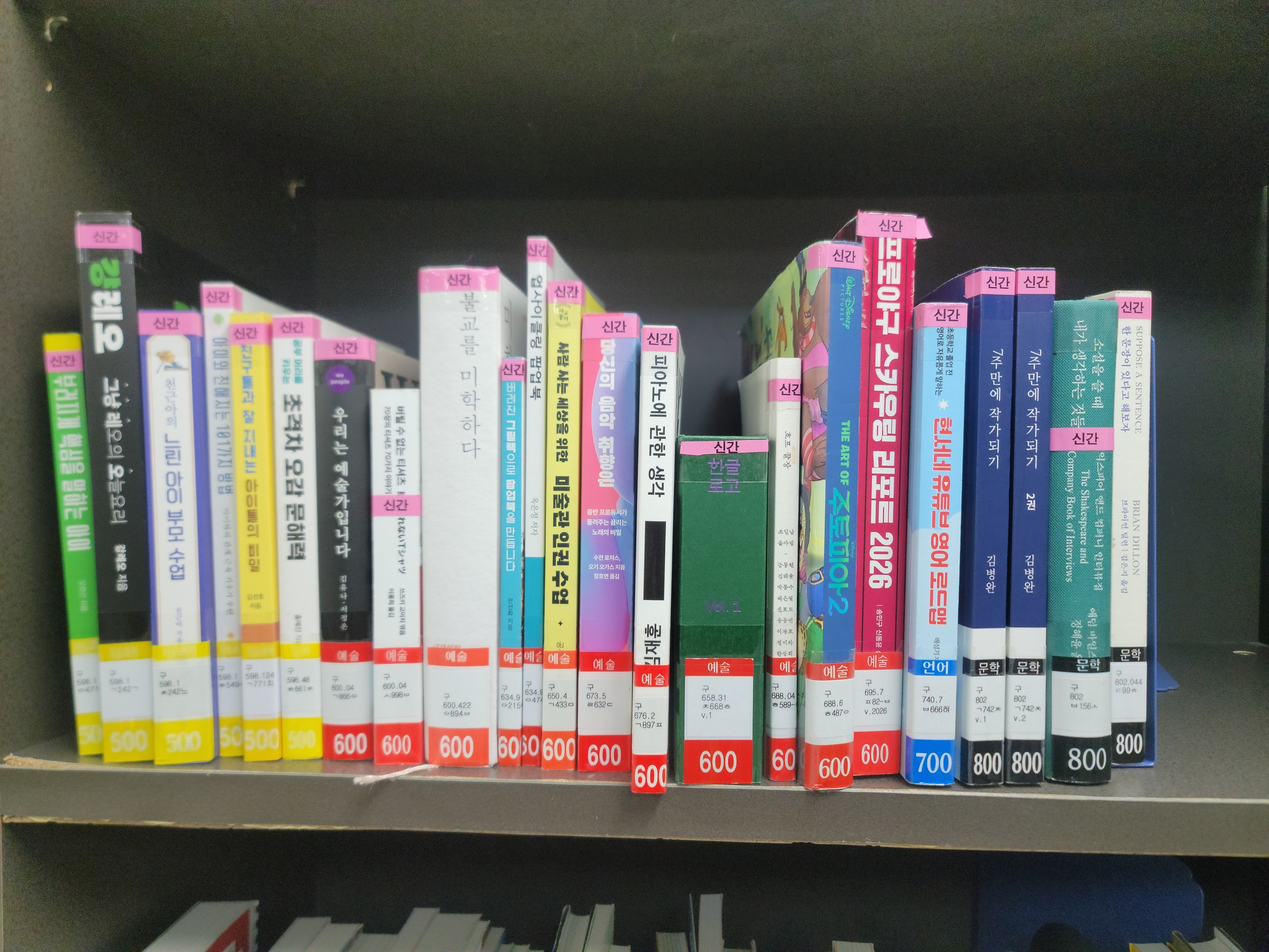book-spine: (75, 213, 155, 762), (419, 267, 501, 767), (853, 215, 918, 780), (137, 311, 215, 766), (1048, 299, 1114, 786), (679, 437, 768, 784), (908, 302, 968, 784), (812, 243, 864, 791), (576, 314, 638, 773), (42, 333, 105, 756), (964, 268, 1015, 786), (1004, 268, 1055, 783), (313, 337, 372, 761), (267, 315, 323, 760), (629, 326, 679, 791), (230, 313, 281, 762), (1108, 292, 1152, 787), (199, 287, 245, 760), (370, 391, 424, 765), (541, 275, 581, 772), (519, 240, 548, 768), (768, 357, 803, 780), (498, 353, 524, 766)
